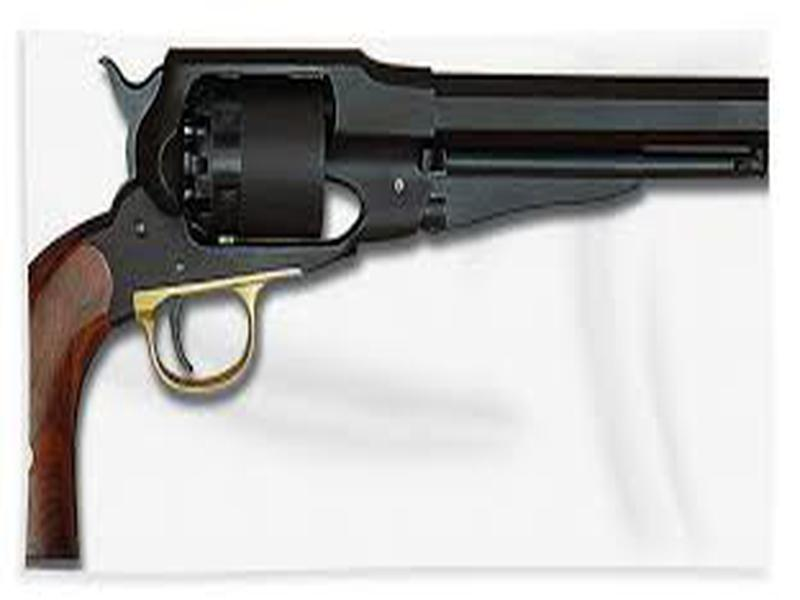gun: (62, 41, 772, 401)
